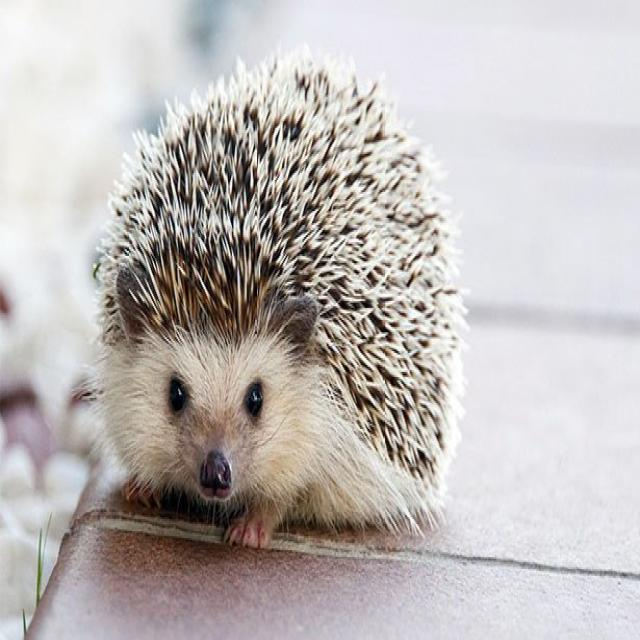Hedgehog: (92, 51, 470, 554)
